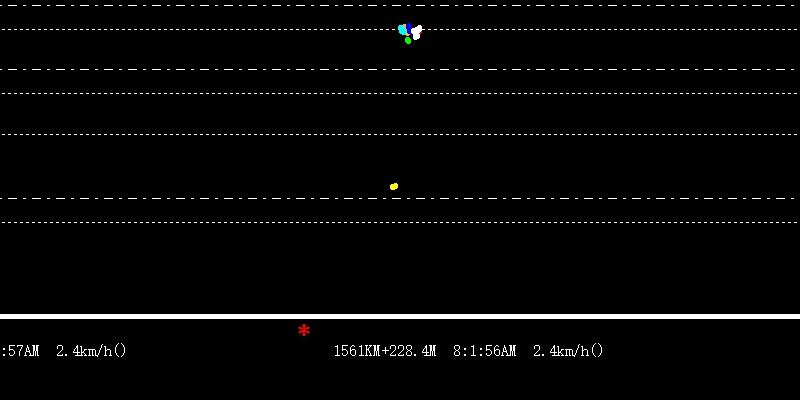face_2: (398, 16, 425, 48)
star: (295, 321, 311, 339)
